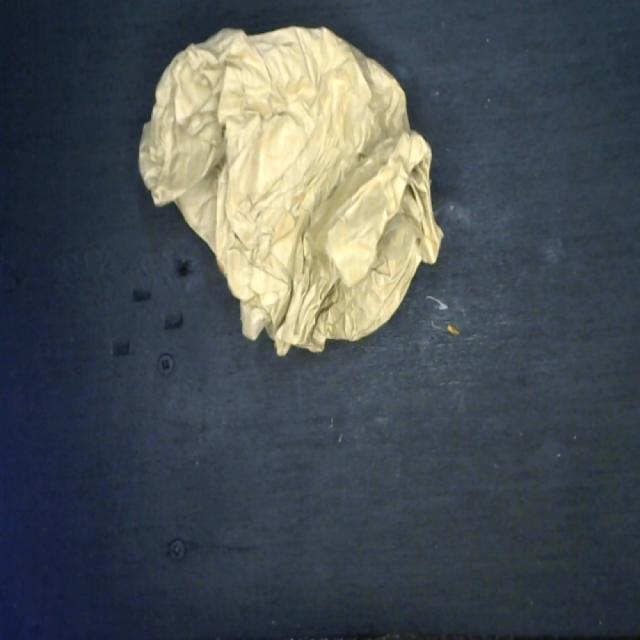biodegradable: (135, 22, 444, 361)
